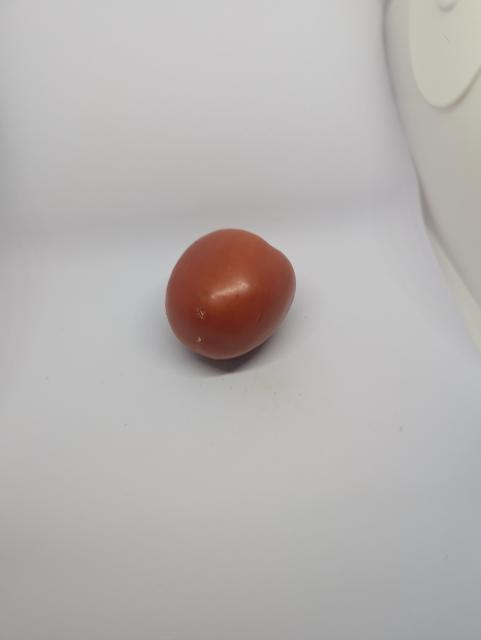red: (134, 213, 322, 377)
